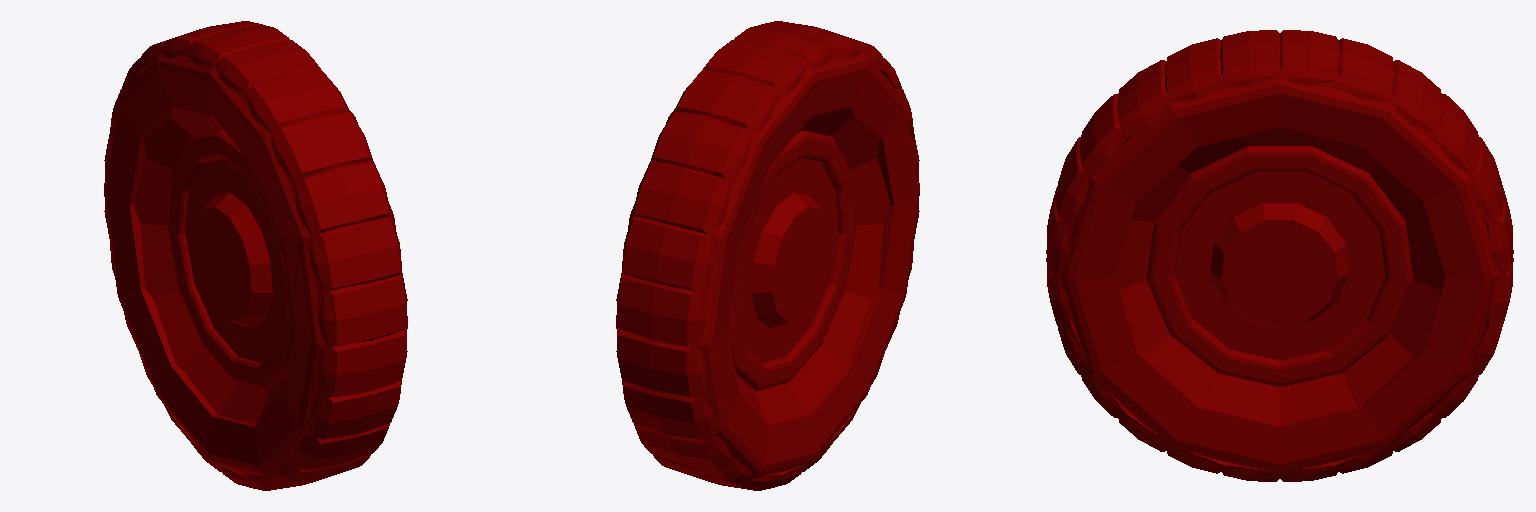
The model's file is llanta1.obj.
3 renders of one model, left to right at view 1: azimuth 30°, elevation 25°; view 2: azimuth 150°, elevation 25°; view 3: azimuth 270°, elevation 25°, orthographic.
Parts seen in each view (by area): view 1: CartoonTrack_TireFrontLeft; view 2: CartoonTrack_TireFrontLeft; view 3: CartoonTrack_TireFrontLeft.
Boxes of the visible parts, x1,y1,x2,y2 form: CartoonTrack_TireFrontLeft: [104, 21, 407, 490]; CartoonTrack_TireFrontLeft: [616, 21, 919, 490]; CartoonTrack_TireFrontLeft: [1046, 30, 1513, 481].
Size of the model in its own units: 0.2486 by 1.06 by 1.06.